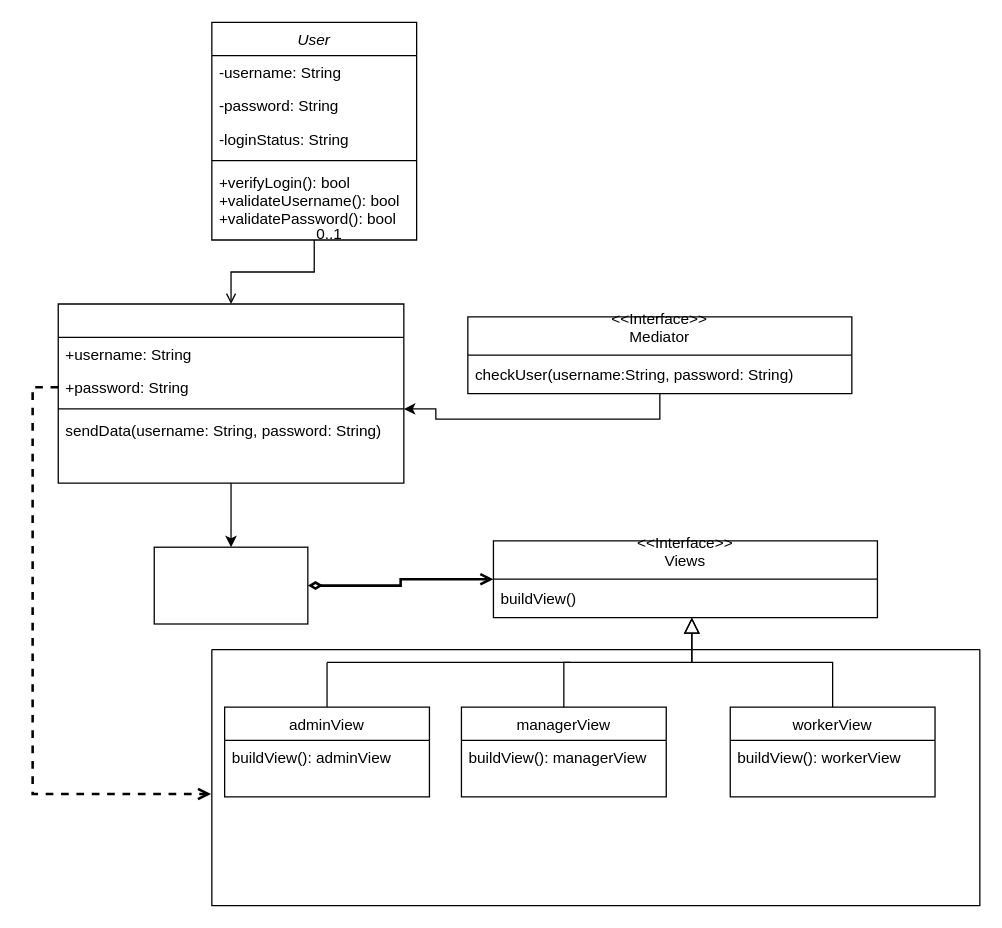
Some shapes in this 1002 by 928 pixel diagram are drawn without their labels. The box of each missing label's shape, as (x1, y1, x2, y2) in pixels:
ConcreteViews: (211, 648, 980, 906)
Login: (57, 303, 404, 483)
View: (153, 546, 308, 624)
